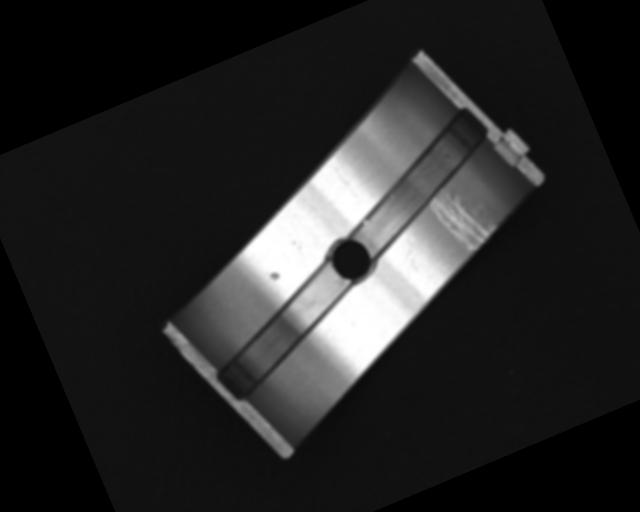bruise: (266, 269, 281, 283)
gap: (321, 104, 511, 261), (196, 261, 374, 403)
hole: (323, 231, 377, 288)
nick: (330, 158, 357, 200)
scratch: (426, 176, 500, 260)
